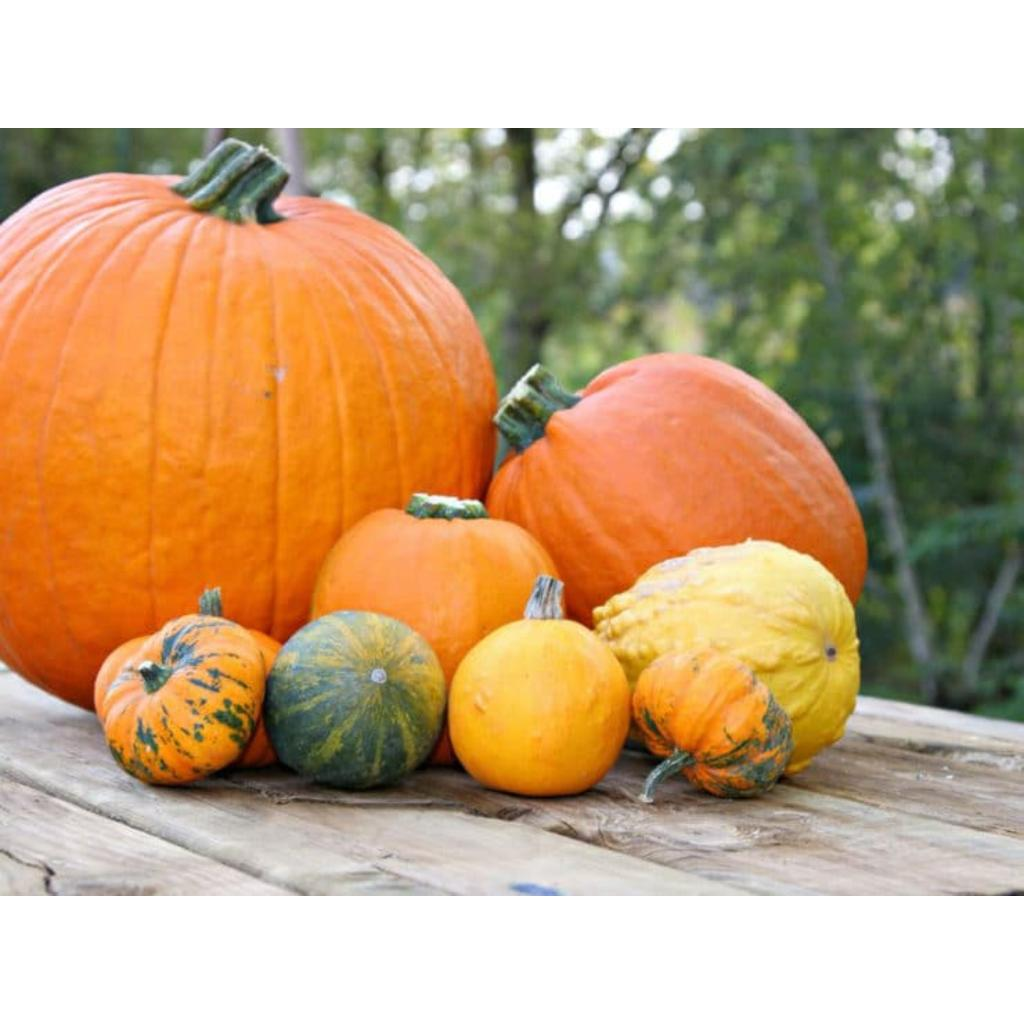pumpkin: (0, 140, 496, 705), (488, 354, 866, 623), (312, 492, 556, 685), (448, 574, 630, 796), (94, 588, 280, 783), (632, 648, 794, 802)
